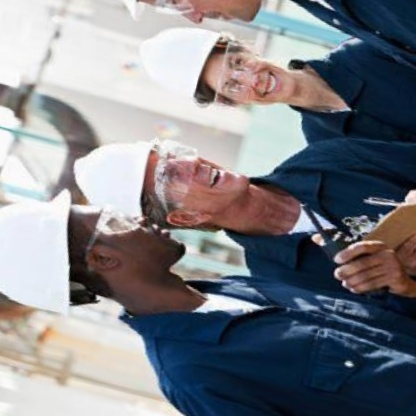white: (0, 164, 104, 328), (60, 114, 163, 229), (125, 12, 229, 116), (31, 0, 178, 32)
